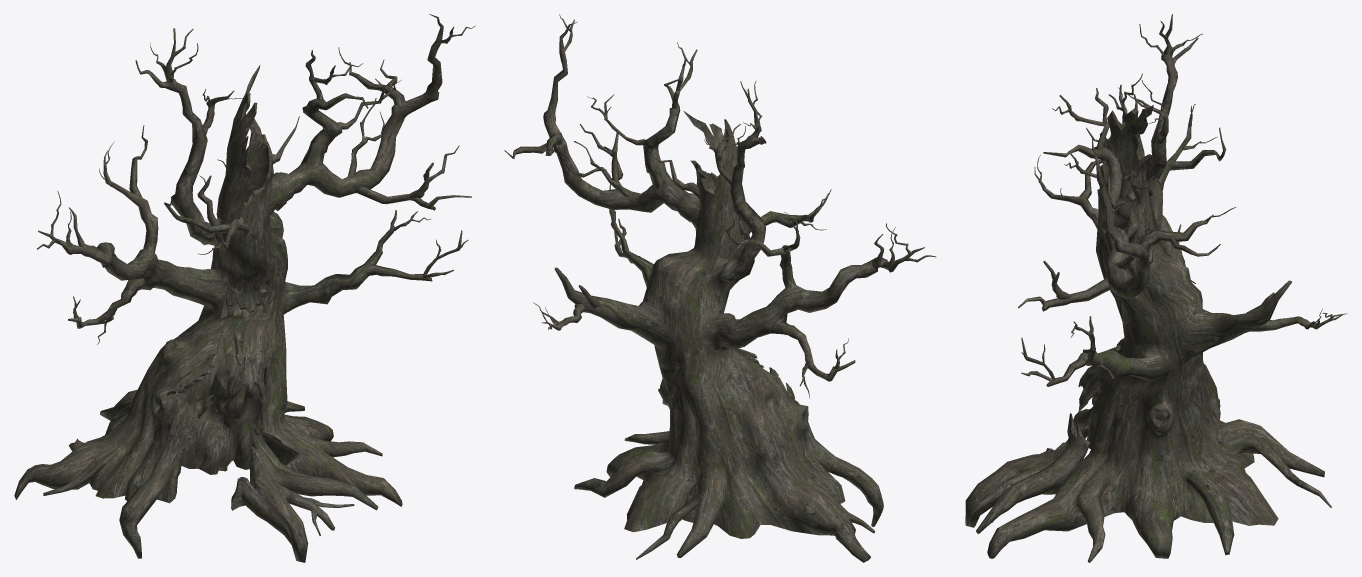
Rendered from Tree_Ancient_01.fbx.
3 views of the same model, side by side, from view 1: azimuth 30°, elevation 25°; view 2: azimuth 150°, elevation 25°; view 3: azimuth 270°, elevation 25° (orthographic). The views are drawn at different scales.
Visible parts, largest first — view 1: Ancient_01_Trunk; view 2: Ancient_01_Trunk; view 3: Ancient_01_Trunk.
Boxes of the visible parts, <box> form: Ancient_01_Trunk: <box>14,14,475,562</box>; Ancient_01_Trunk: <box>504,14,936,562</box>; Ancient_01_Trunk: <box>965,14,1347,562</box>.
Size of the model in its own units: 917 by 997 by 692.
Materials: 1 (1 with a texture image).
